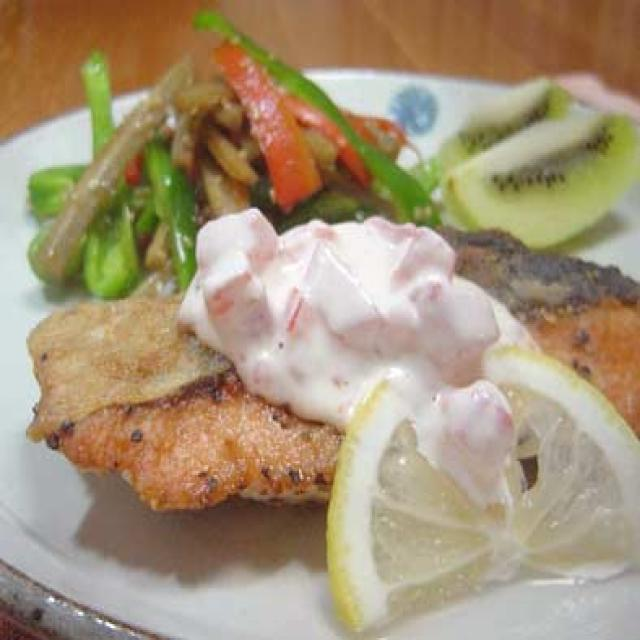熟制海鲜: (53, 206, 640, 534)
